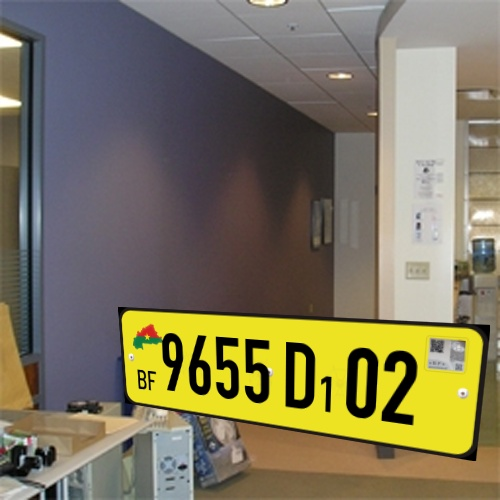plate: (108, 292, 499, 466)
